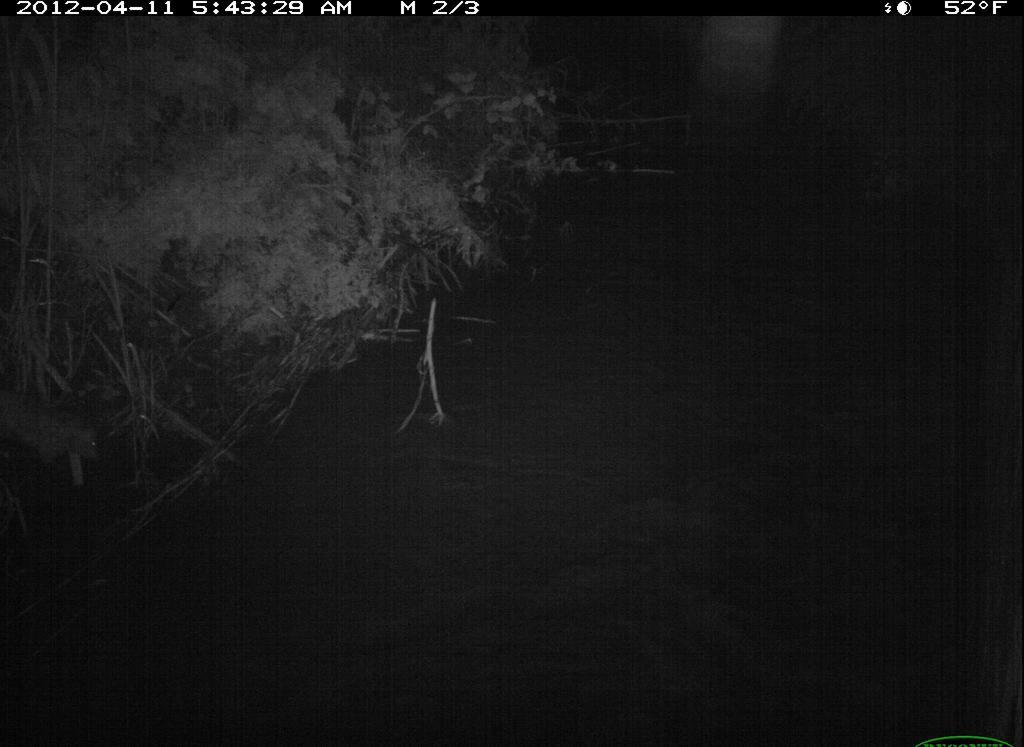opossum: (6, 377, 113, 493)
